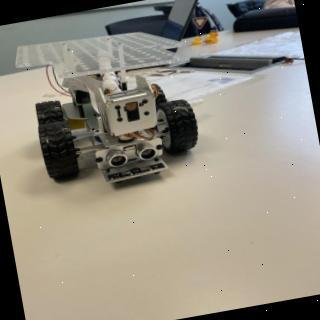vehicle: (8, 15, 209, 204)
